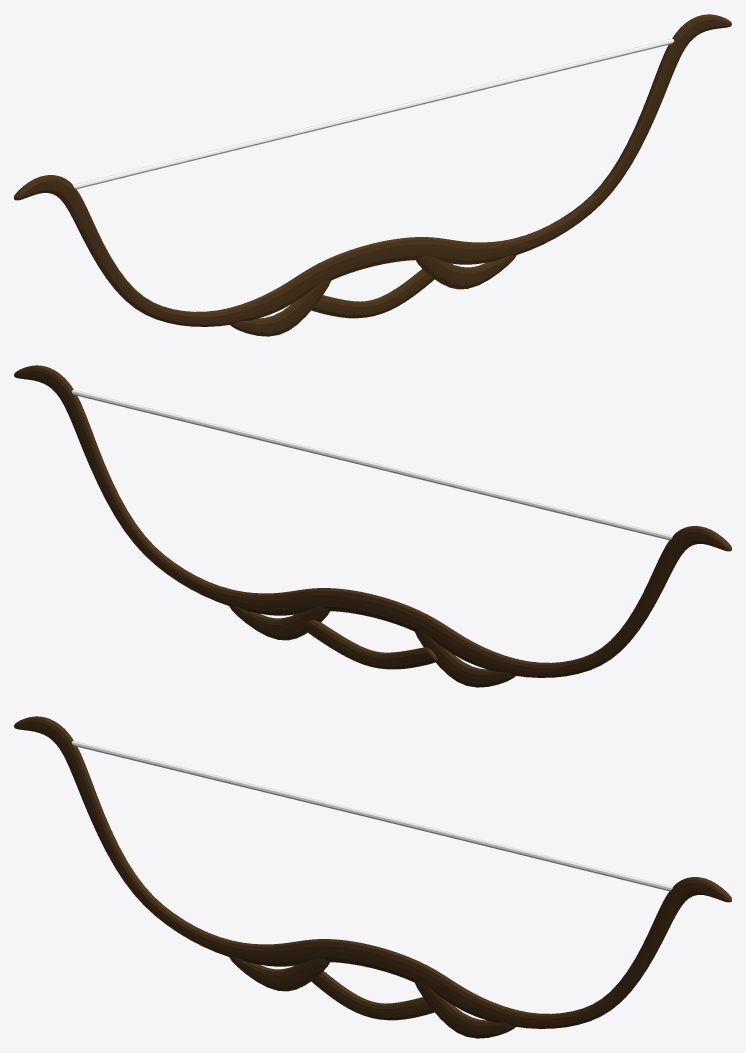
Rendered from bow.fbx.
The picture shows the model from 3 angles, top to bottom: view 1: azimuth 30°, elevation 25°; view 2: azimuth 150°, elevation 25°; view 3: azimuth 330°, elevation 25°; orthographic projection.
Visible parts, largest first — view 1: panah; view 2: panah; view 3: panah.
Boxes of the visible parts, x1=… form: panah: x1=14, y1=14, x2=731, y2=336; panah: x1=14, y1=365, x2=731, y2=687; panah: x1=14, y1=716, x2=731, y2=1038.
Bounding box in the file's own units: 102 × 29.96 × 1.41.
